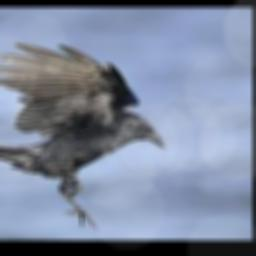Crow: (0, 43, 168, 235)
